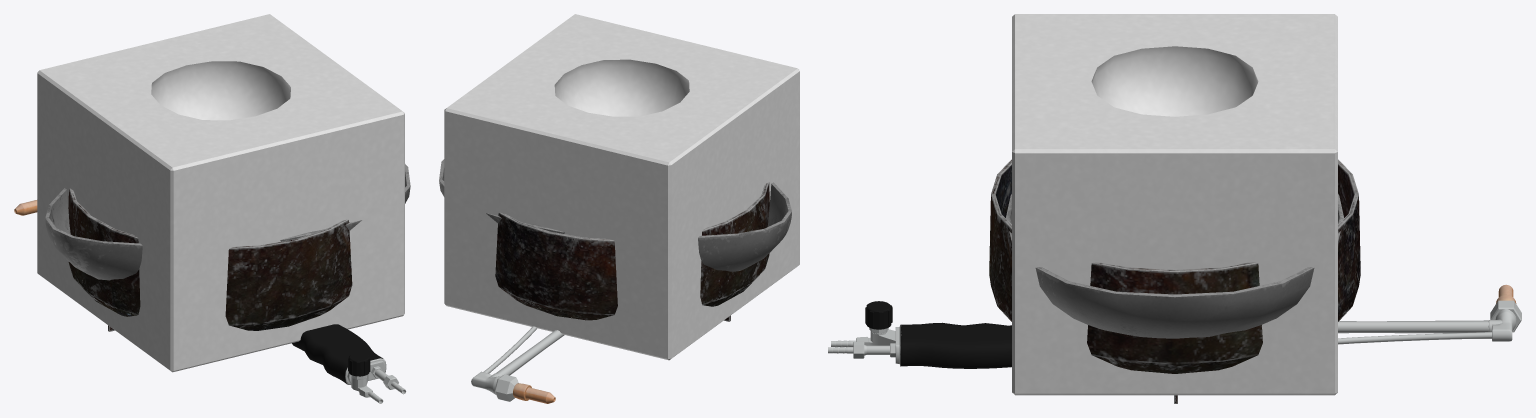
3 views of the same model, side by side, from view 1: azimuth 30°, elevation 25°; view 2: azimuth 150°, elevation 25°; view 3: azimuth 270°, elevation 25° (orthographic). The views are drawn at different scales.
Visible parts, largest first — view 1: 305_ShiGao_Dun, 305_YinKuai_RongQi, 305_HuoQiang, 305_JinShuPiao; view 2: 305_ShiGao_Dun, 305_YinKuai_RongQi, 305_JinShuPiao, 305_HuoQiang; view 3: 305_ShiGao_Dun, 305_YinKuai_RongQi, 305_HuoQiang, 305_JinShuPiao.
Boxes of the visible parts, box(x1,y1,x2,y2) form: 305_ShiGao_Dun: box(37, 14, 404, 372); 305_YinKuai_RongQi: box(68, 188, 352, 330); 305_HuoQiang: box(14, 200, 406, 403); 305_JinShuPiao: box(45, 164, 410, 280); 305_ShiGao_Dun: box(444, 14, 799, 360); 305_YinKuai_RongQi: box(495, 182, 769, 320); 305_JinShuPiao: box(439, 159, 791, 271); 305_HuoQiang: box(471, 326, 564, 403); 305_ShiGao_Dun: box(1012, 14, 1337, 395); 305_YinKuai_RongQi: box(989, 159, 1360, 373); 305_HuoQiang: box(828, 284, 1521, 368); 305_JinShuPiao: box(1006, 194, 1343, 338).
Bounding box in the file's own units: 25.74 × 15.76 × 38.33.
2 materials, 2 textured.
